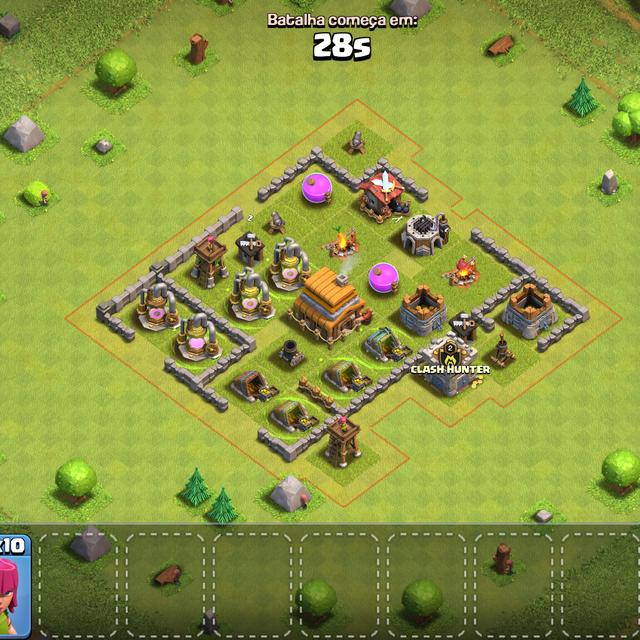Arqueira: (192, 237, 228, 287), (327, 416, 362, 466)
Canhao: (345, 128, 366, 156), (266, 209, 288, 233)
